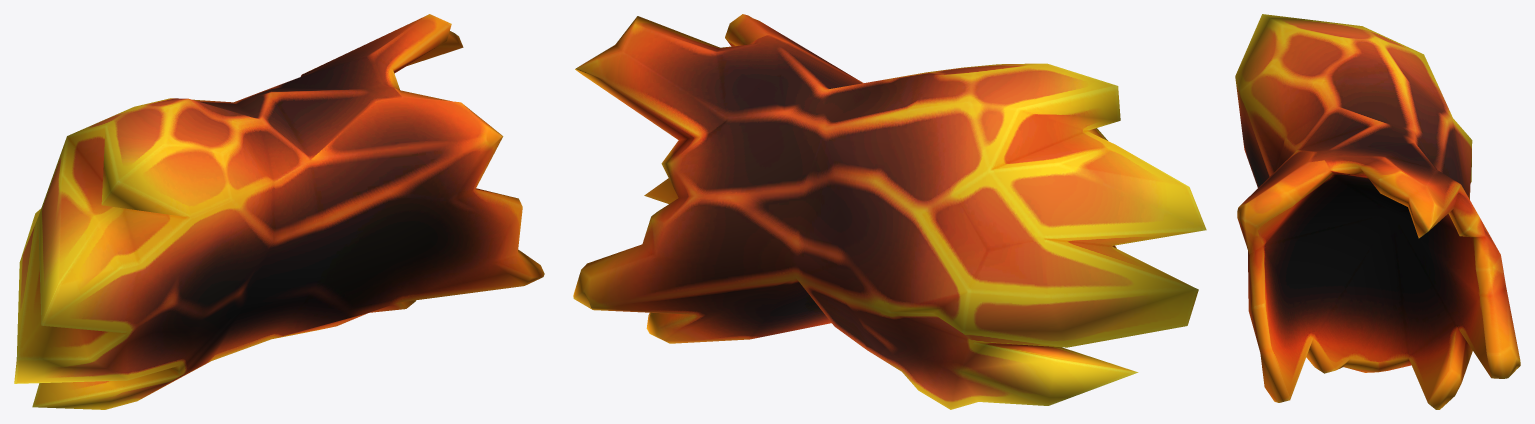
The model's file is item_weaknumgm2501.glb.
3 renders of one model, left to right at view 1: azimuth 30°, elevation 25°; view 2: azimuth 150°, elevation 25°; view 3: azimuth 270°, elevation 25°, orthographic. The views are drawn at different scales.
Parts seen in each view (by area): view 1: FlyffMesh; view 2: FlyffMesh; view 3: FlyffMesh.
Boxes of the visible parts, x1=… form: FlyffMesh: x1=14, y1=14, x2=544, y2=409; FlyffMesh: x1=573, y1=14, x2=1206, y2=409; FlyffMesh: x1=1235, y1=14, x2=1520, y2=409.
Size of the model in its own units: 0.6683 by 0.3619 by 0.3364.
Materials: 1 (1 with a texture image).
